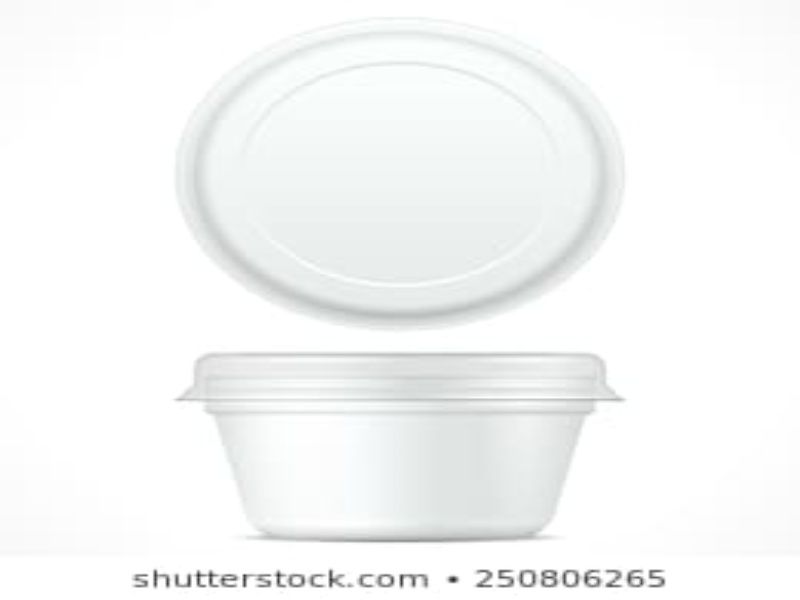plastic-plate: (173, 12, 631, 325)
yogurt-cup: (175, 343, 656, 547)
